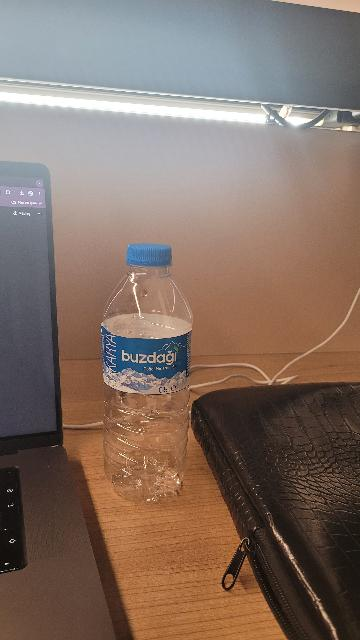Plastik: (96, 233, 195, 504), (122, 234, 181, 270)
